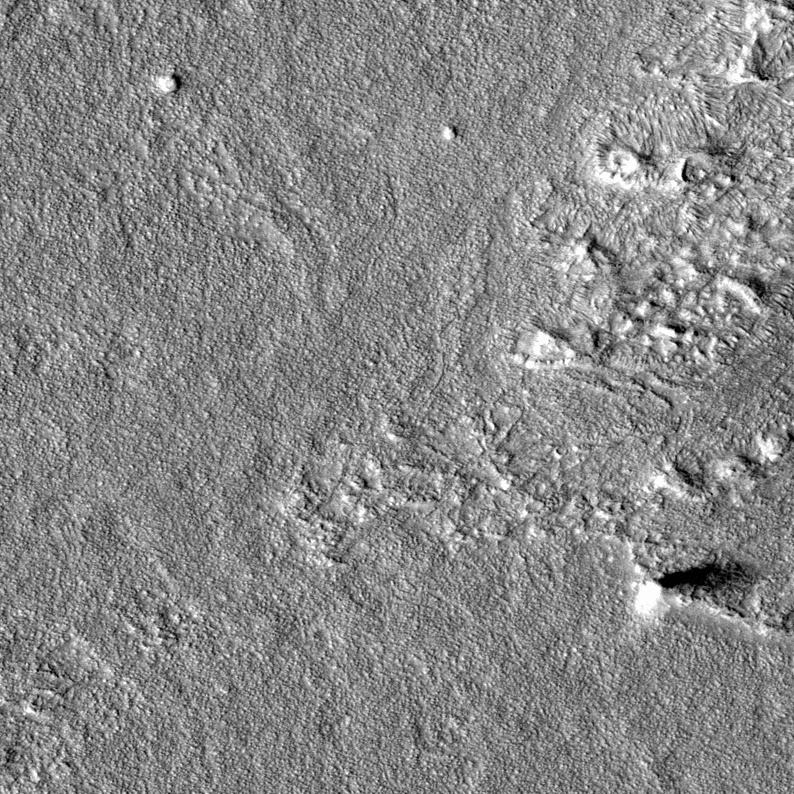dust_devil: (630, 559, 753, 621)
